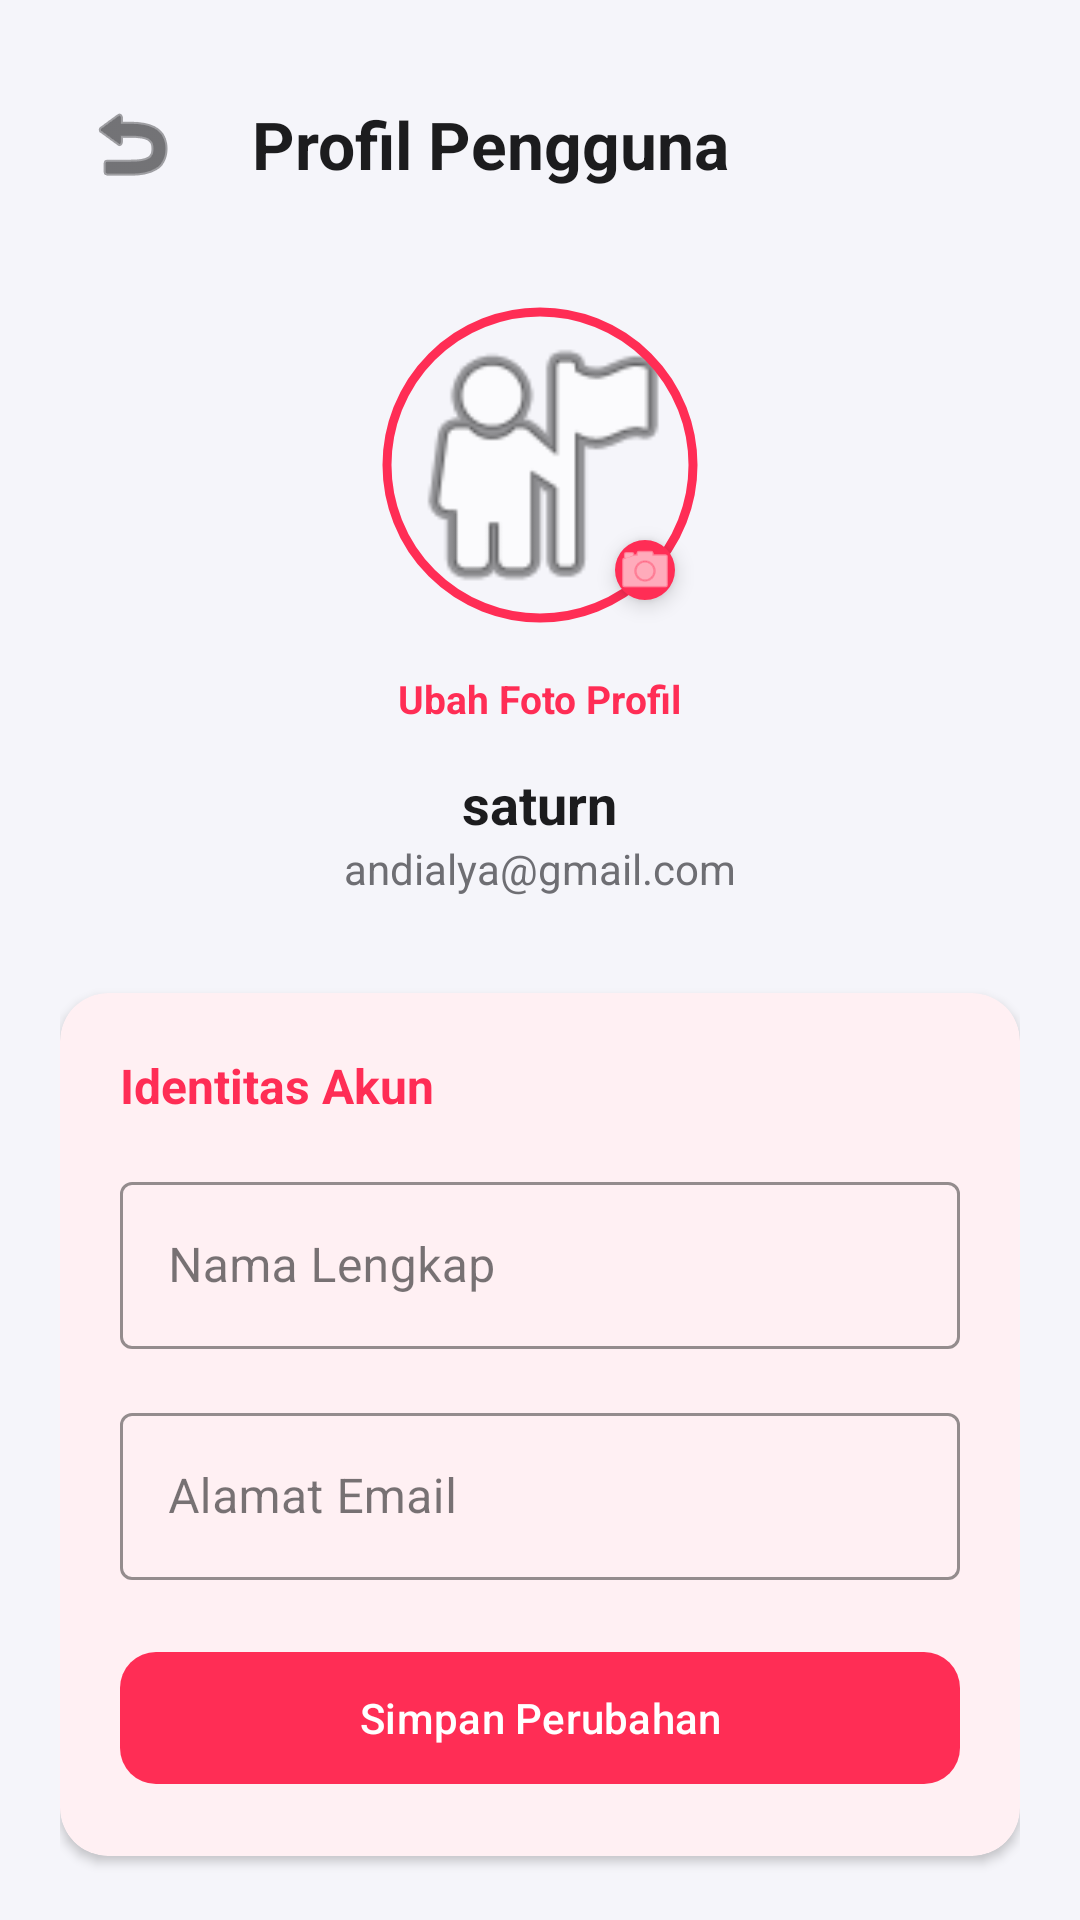

Icons on this 1080×1920 Android screen, each with the point to tap as (x=x, y=y):
Kembali: (x=133, y=144)
